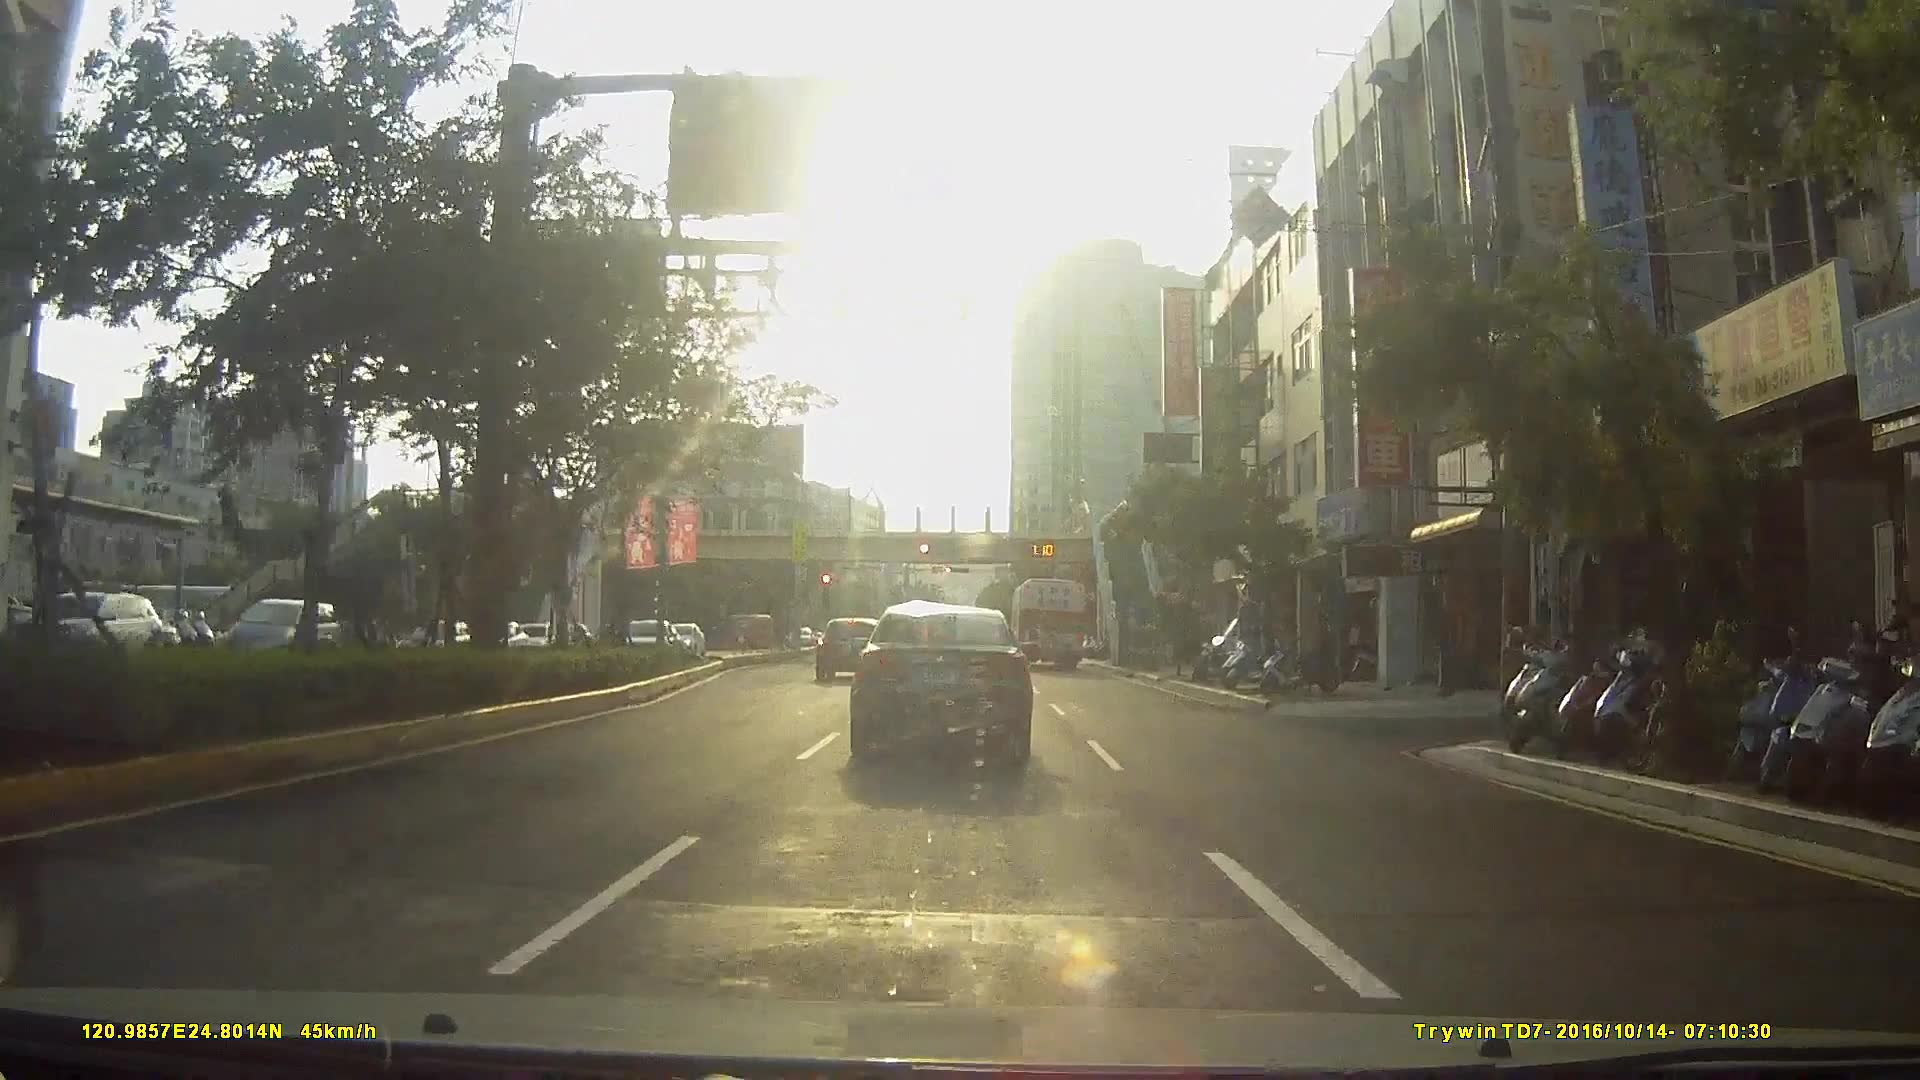vehicle: (847, 603, 1034, 765), (208, 535, 305, 670), (218, 596, 339, 663), (1006, 574, 1087, 671), (814, 615, 884, 682)
